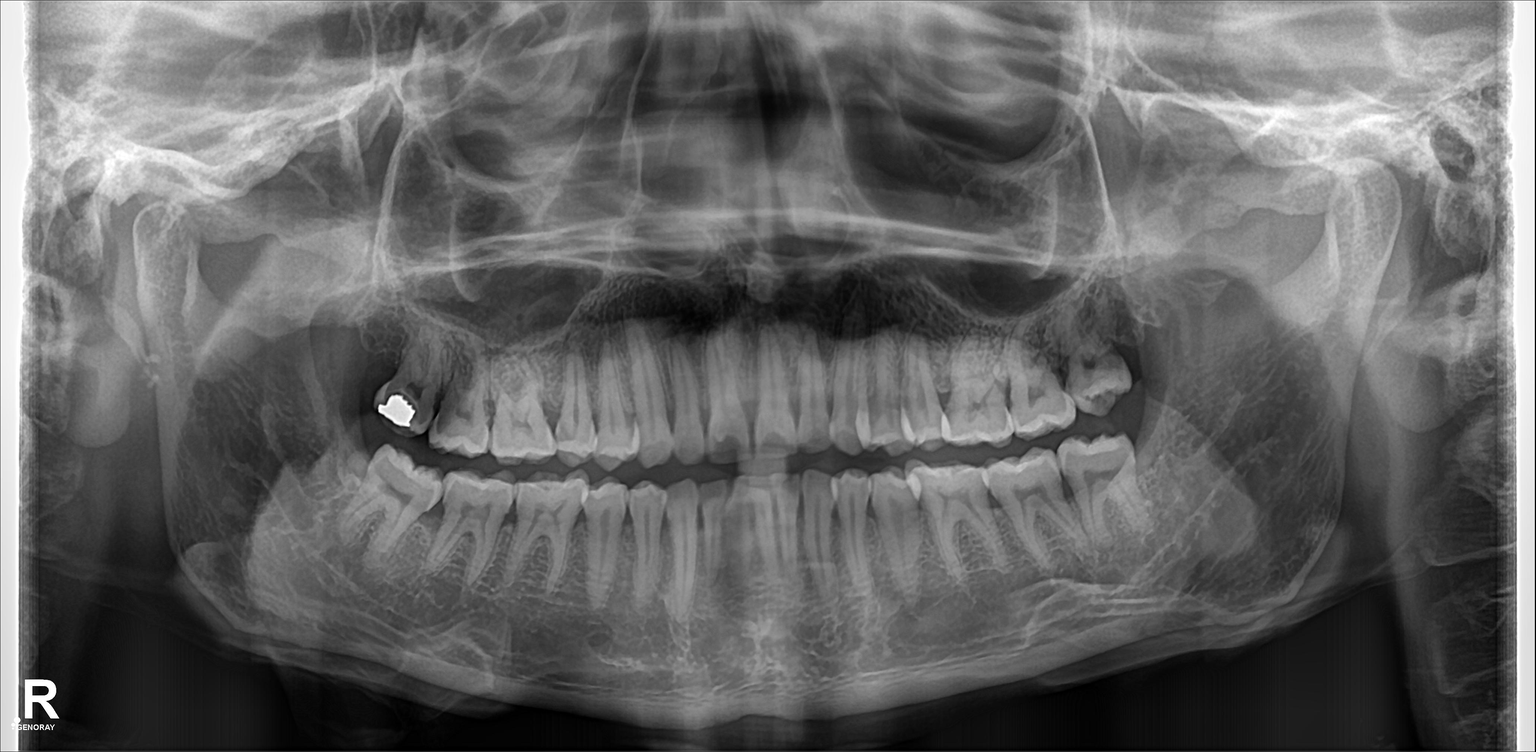Missing Tooth: (1123, 307, 1165, 392)
